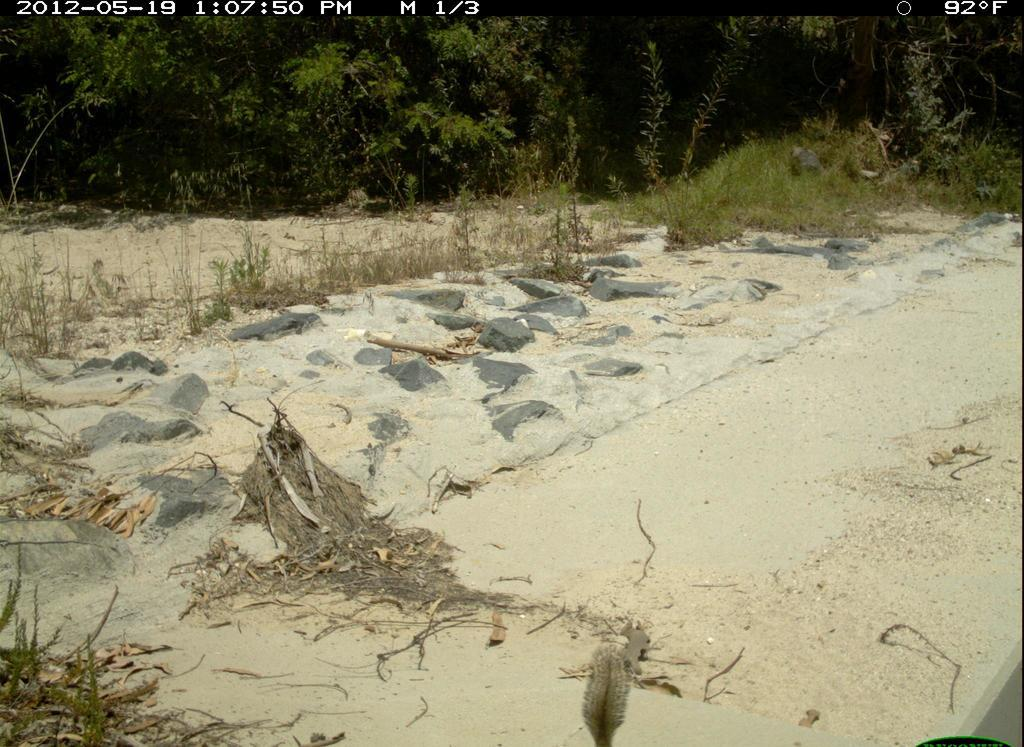squirrel: (562, 631, 653, 747)
